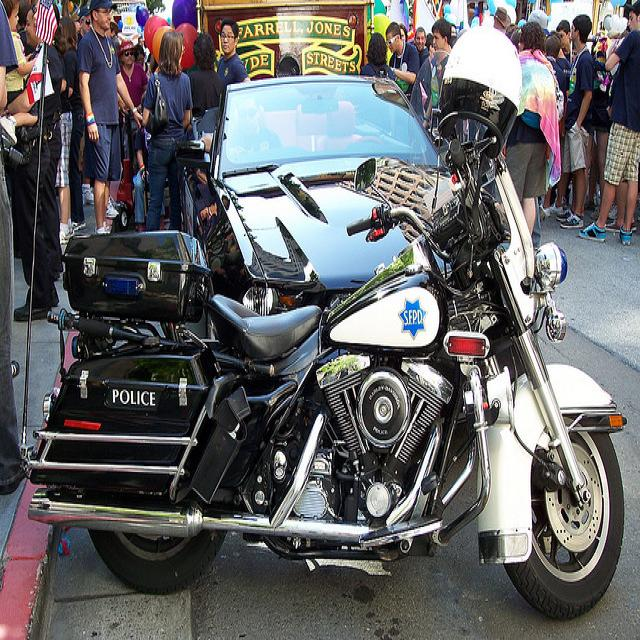motor: (7, 4, 640, 620)
